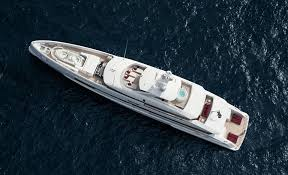tau_dansu: (28, 39, 256, 150)
